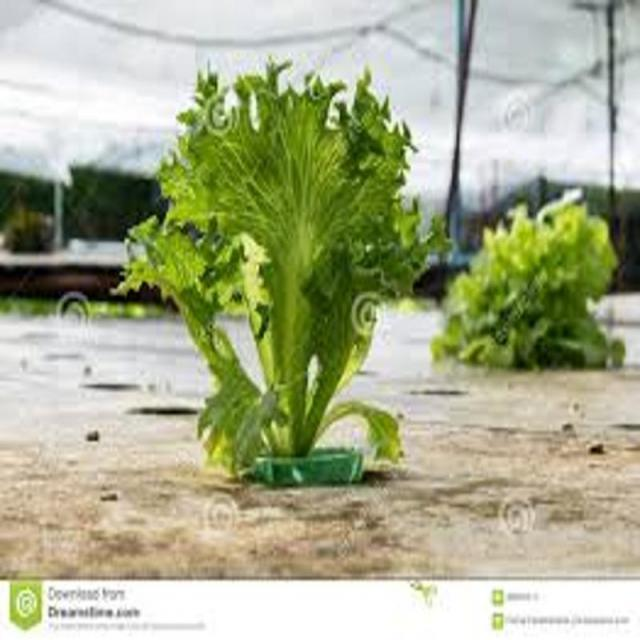Lettuce: (111, 61, 456, 482), (428, 184, 632, 374)
